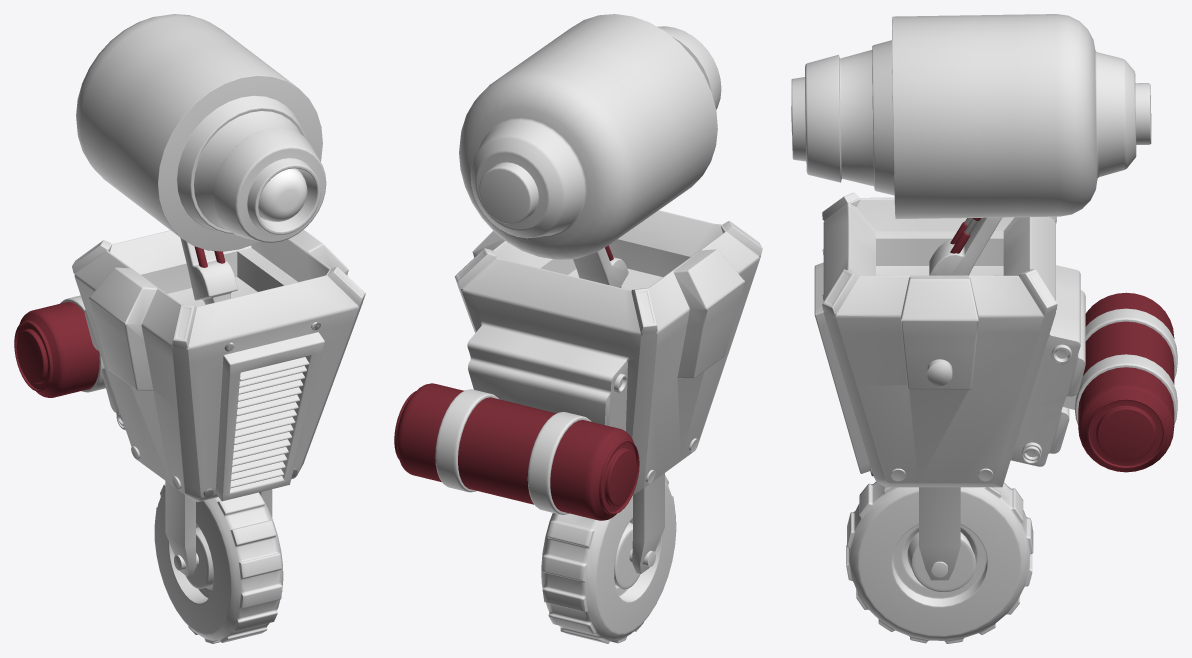
The model's file is Wheel Robot.fbx.
The picture shows the model from 3 angles, left to right: view 1: azimuth 30°, elevation 25°; view 2: azimuth 150°, elevation 25°; view 3: azimuth 270°, elevation 25°; orthographic projection. The views are drawn at different scales.
Visible parts, largest first — view 1: Body, Head, Tire, Ventilations, Gas tAnk, Neck; view 2: Body, Head, Gas tAnk, Tire, Neck; view 3: Body, Head, Tire, Gas tAnk, Neck, Hand_Axel.
Part boxes in pixels (left/top/right/bottom): Body: left=72, top=229, right=365, bottom=576; Head: left=76, top=14, right=326, bottom=251; Tire: left=154, top=484, right=283, bottom=643; Ventilations: left=230, top=357, right=309, bottom=488; Gas tAnk: left=14, top=295, right=105, bottom=397; Neck: left=180, top=238, right=237, bottom=304; Body: left=454, top=210, right=762, bottom=573; Head: left=459, top=14, right=721, bottom=260; Gas tAnk: left=394, top=383, right=639, bottom=520; Tire: left=541, top=475, right=676, bottom=643; Neck: left=573, top=245, right=628, bottom=287; Body: left=814, top=192, right=1085, bottom=580; Head: left=791, top=14, right=1151, bottom=219; Tire: left=846, top=481, right=1033, bottom=643; Gas tAnk: left=1063, top=292, right=1177, bottom=472; Neck: left=929, top=217, right=1001, bottom=275; Hand_Axel: left=927, top=359, right=952, bottom=385.
Bounding box in the file's own units: 54.89 × 135 × 77.19.
